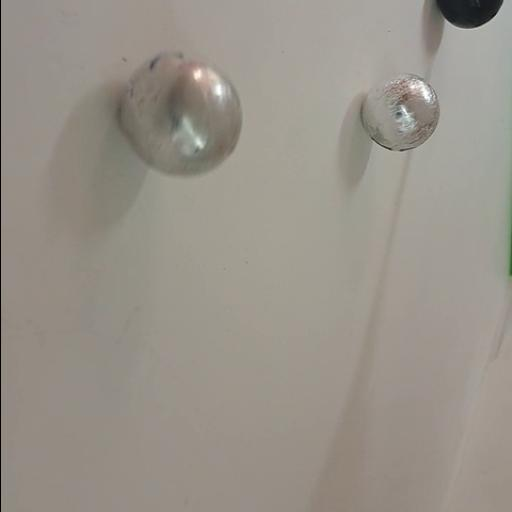alive: (114, 49, 246, 182), (360, 72, 440, 153)
dead: (436, 0, 504, 28)
